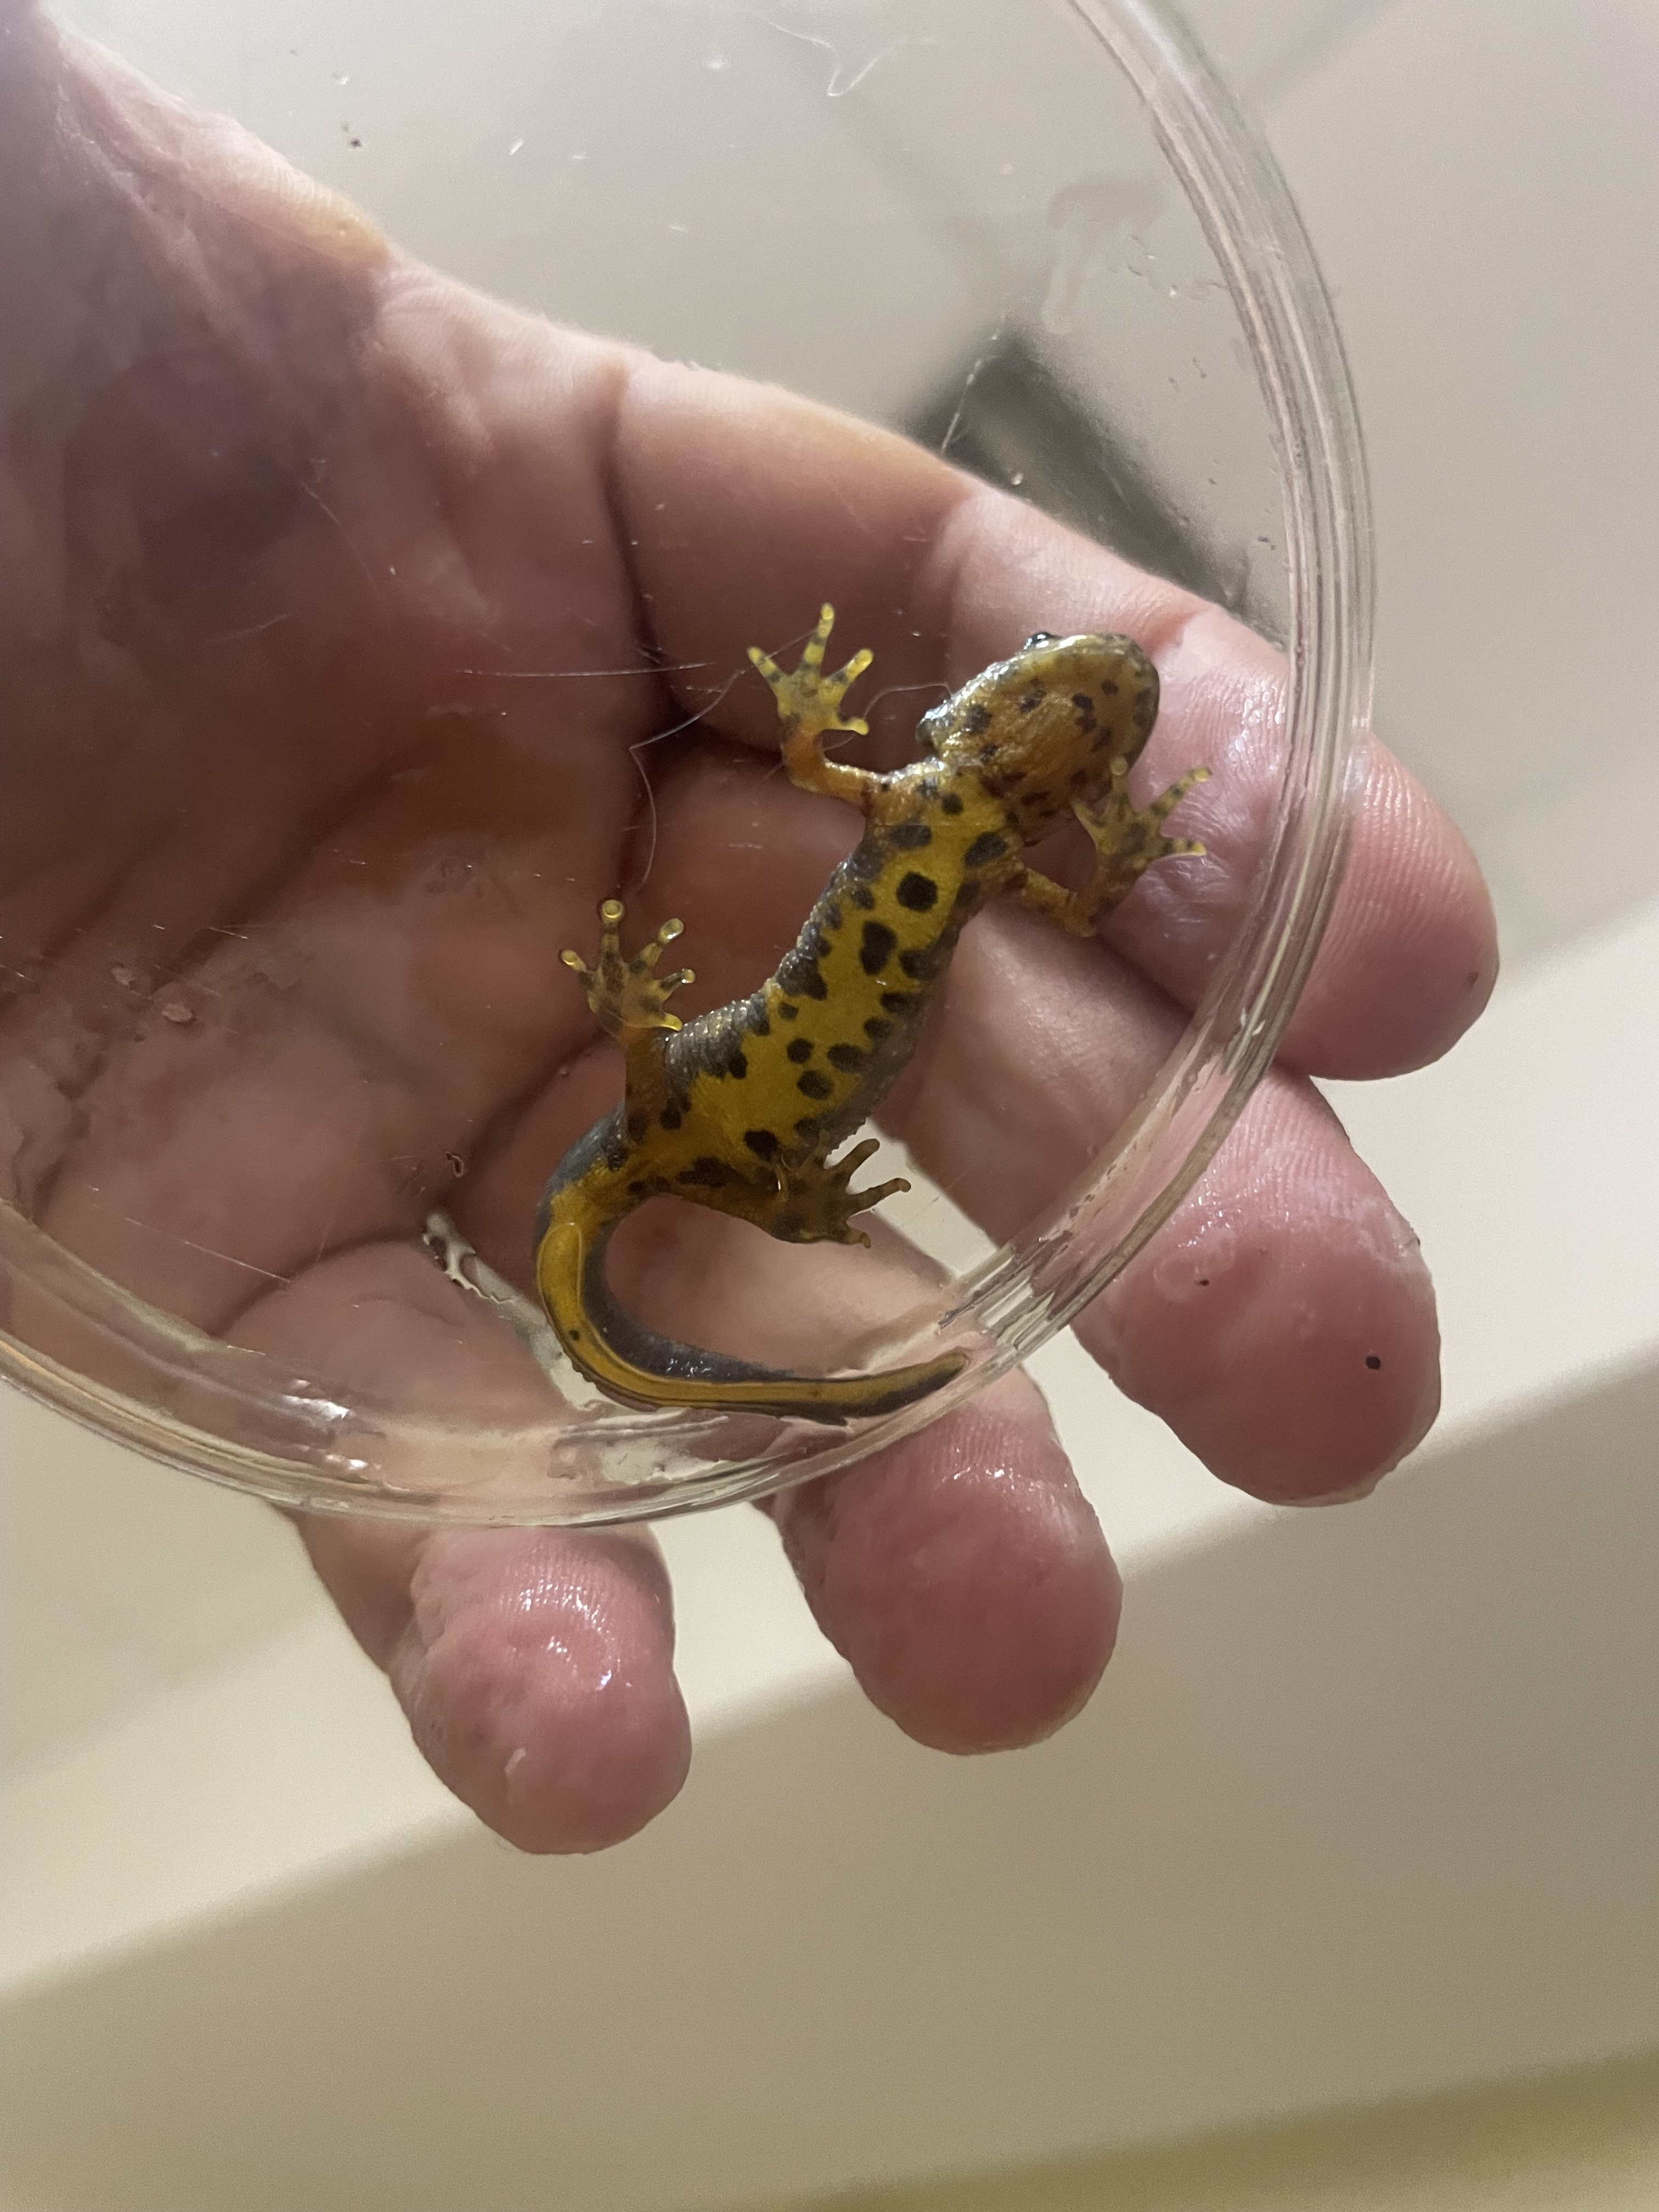Karelin_newt: (659, 813, 995, 1181)
